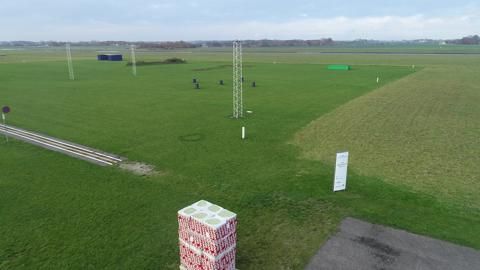RockwoolPallet: (177, 199, 237, 270)
